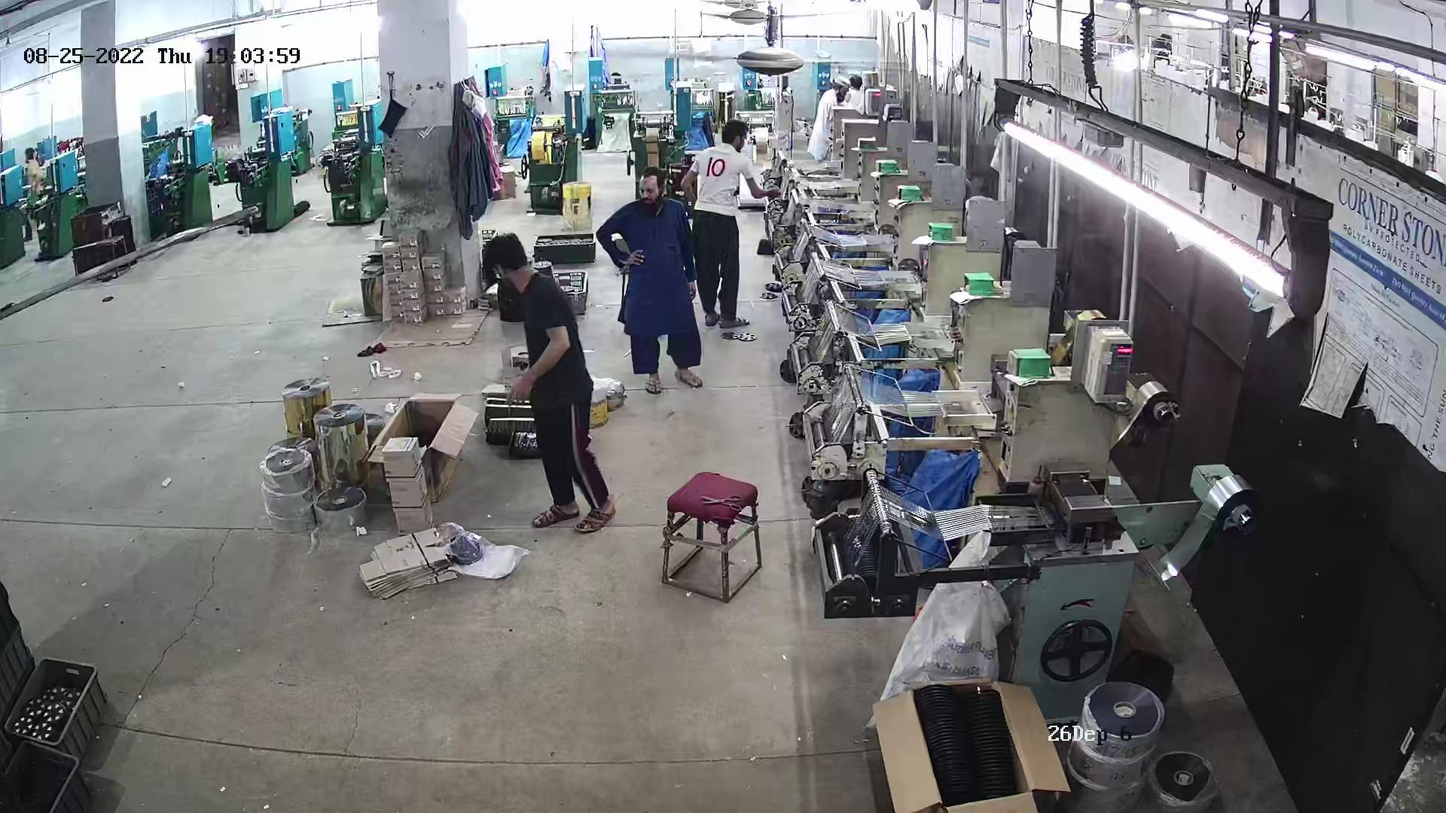person: (490, 231, 617, 532), (592, 178, 715, 387), (692, 111, 774, 335), (810, 75, 848, 161)
